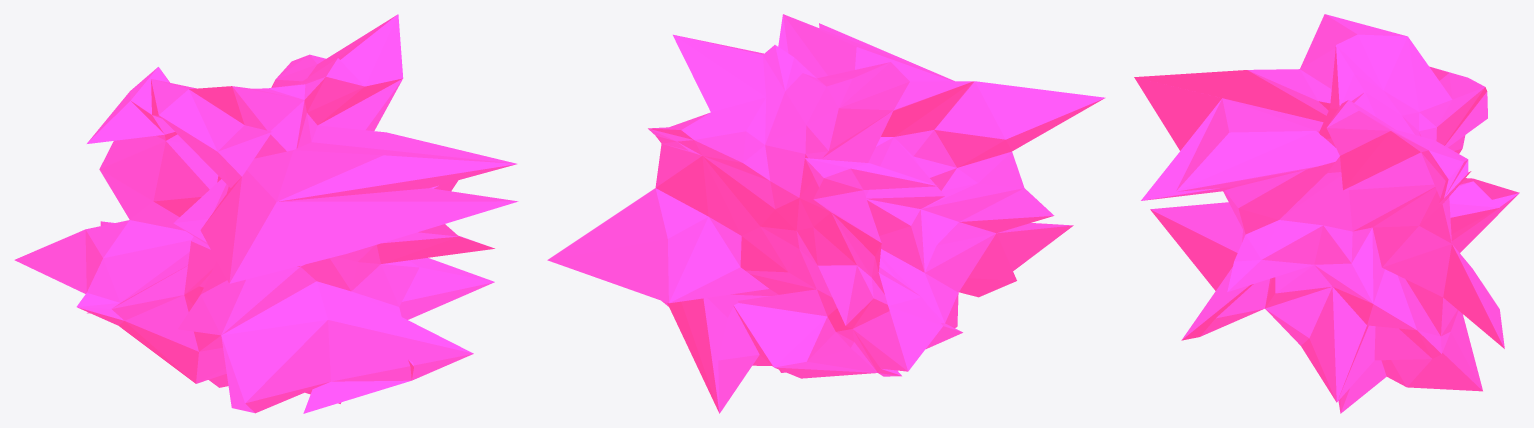
Rendered from pinkStone.glb.
3 renders of one model, left to right at view 1: azimuth 30°, elevation 25°; view 2: azimuth 150°, elevation 25°; view 3: azimuth 270°, elevation 25°, orthographic. The views are drawn at different scales.
Visible parts, largest first — view 1: PierreSkin1; view 2: PierreSkin1; view 3: PierreSkin1.
Part boxes in pixels (x1=…): PierreSkin1: x1=14, y1=14, x2=518, y2=413; PierreSkin1: x1=547, y1=14, x2=1105, y2=413; PierreSkin1: x1=1134, y1=14, x2=1519, y2=413.
Size of the model in its own units: 7.54 by 6.59 by 7.18.
